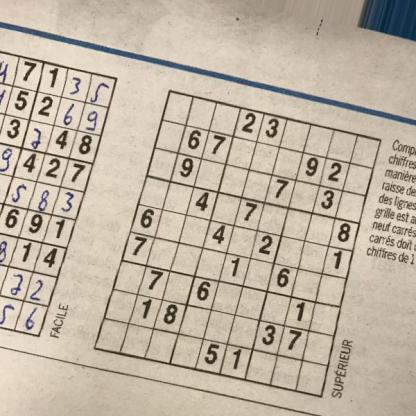sudoku: (93, 85, 384, 401)
